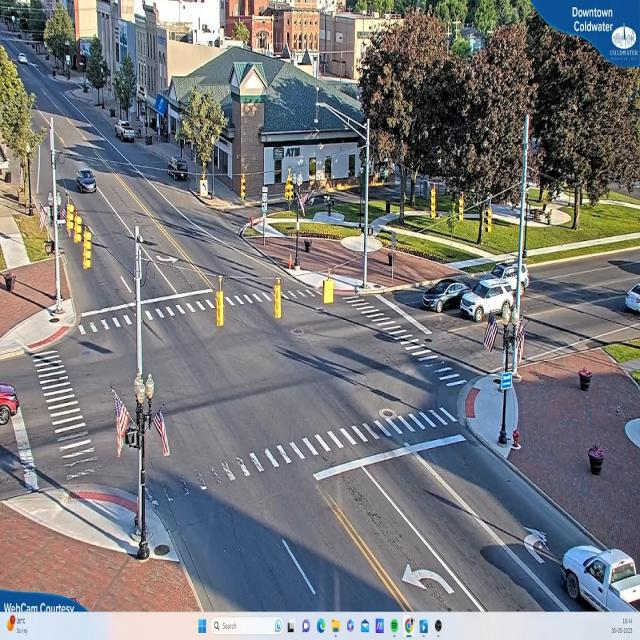car: (562, 543, 640, 611), (464, 283, 516, 322), (421, 280, 470, 312), (484, 263, 531, 296), (1, 382, 21, 422), (75, 170, 96, 193), (117, 122, 137, 144)
